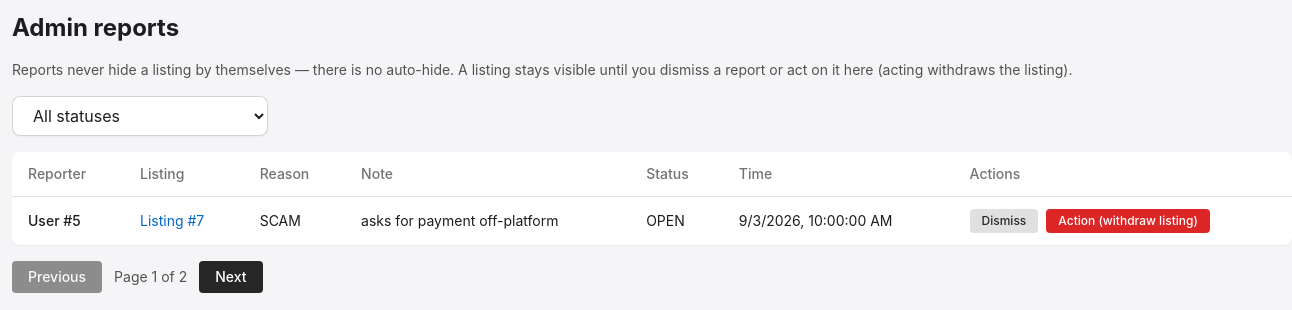
Test case: AdminReportsPage › pagination walks pages with Previous/Next
Expected: the cell "SCAM" is shown, left=244, top=196, right=345, bottom=245
Expected: the text "Page 1 of 2" is shown, left=114, top=267, right=187, bottom=287
Click the button "Next".
click(231, 277)  # box left=199, top=261, right=263, bottom=293
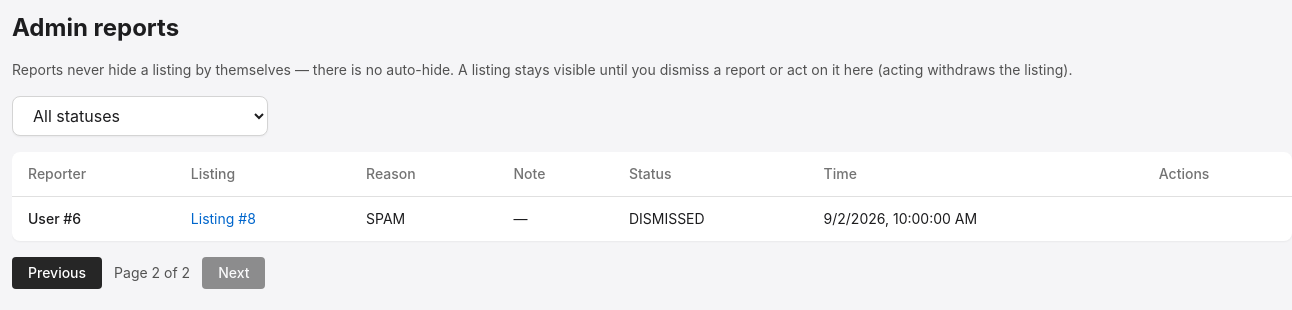
Result: the cell "DISMISSED" is shown at left=613, top=196, right=808, bottom=241
Result: the text "Page 2 of 2" is shown at left=114, top=263, right=190, bottom=283
